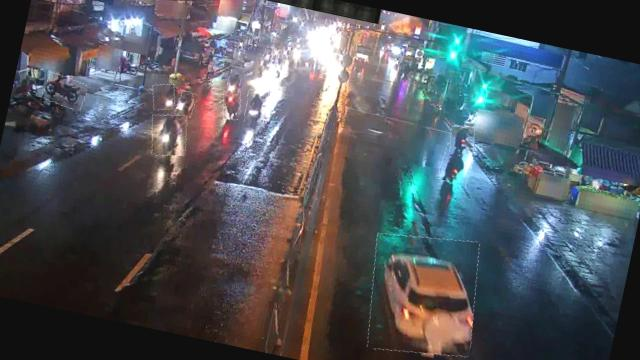Bike: (146, 110, 192, 160), (42, 72, 88, 110), (438, 142, 476, 186), (448, 124, 478, 158), (243, 89, 269, 125), (150, 82, 178, 112), (219, 89, 244, 121), (176, 90, 198, 119), (226, 66, 244, 94), (261, 46, 274, 67), (272, 57, 285, 77)
Car: (357, 224, 489, 360)
